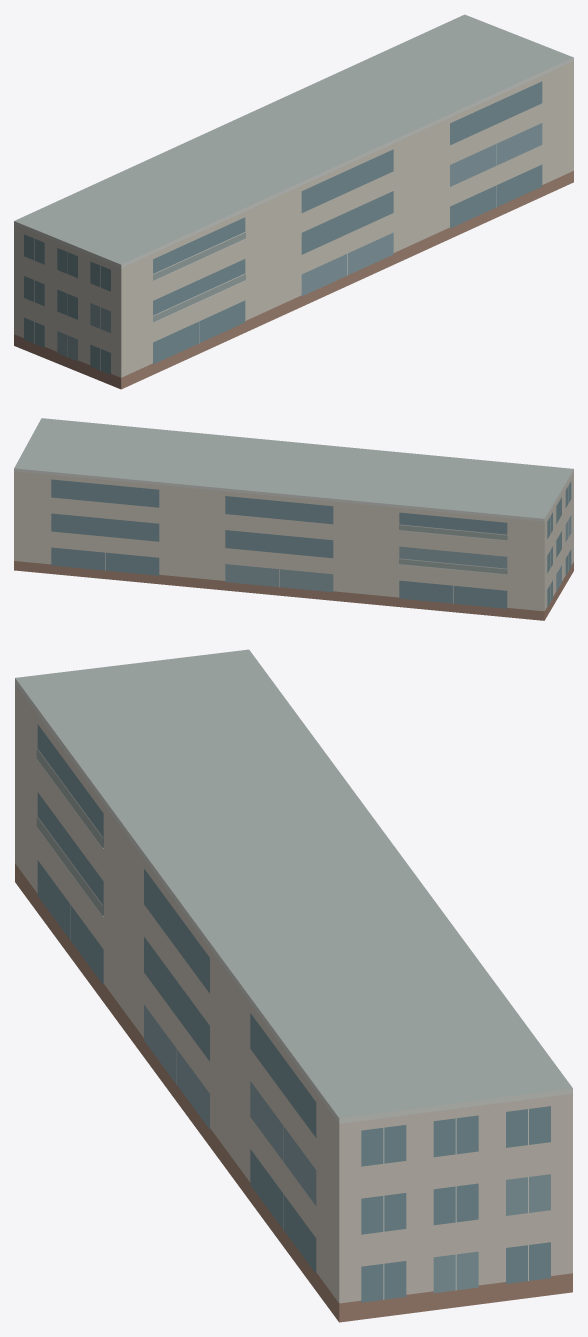
The model's file is survey-upis-32518411.glb.
The picture shows the model from 3 angles, top to bottom: view 1: azimuth 30°, elevation 25°; view 2: azimuth 150°, elevation 25°; view 3: azimuth 270°, elevation 25°; orthographic projection. The views are drawn at different scales.
Visible parts, largest first — view 1: survey-upis-32518411.tmp; view 2: survey-upis-32518411.tmp; view 3: survey-upis-32518411.tmp.
Boxes of the visible parts, x1,y1,x2,y2 form: survey-upis-32518411.tmp: [14, 14, 573, 389]; survey-upis-32518411.tmp: [14, 418, 573, 620]; survey-upis-32518411.tmp: [15, 649, 572, 1322].
Bounding box in the file's own units: 45.09 × 9.15 × 22.68.
